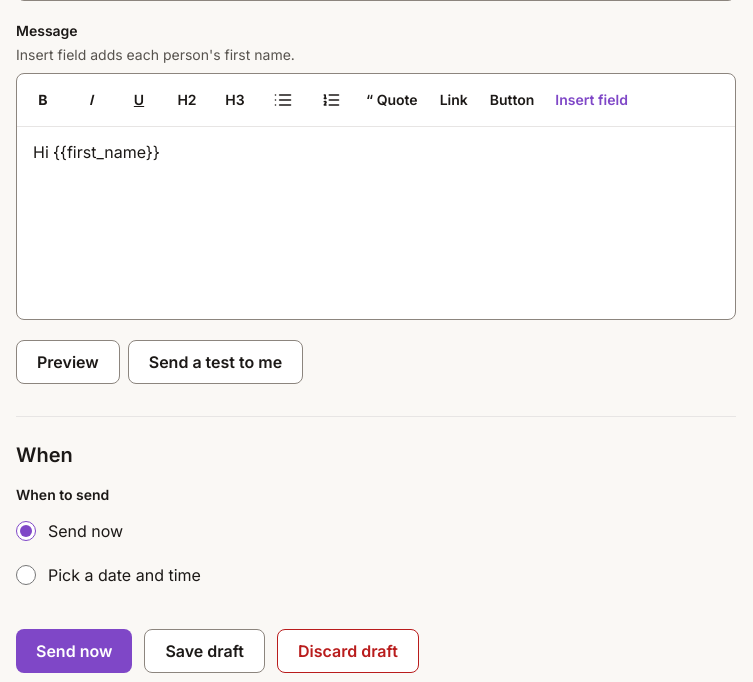
Scenario: MessageComposerPage › sends a test to the author and says where
(page scrolled)
Click the button "Send a test to me" at point(215, 362), box [128,340,303,384]
(page scrolled)
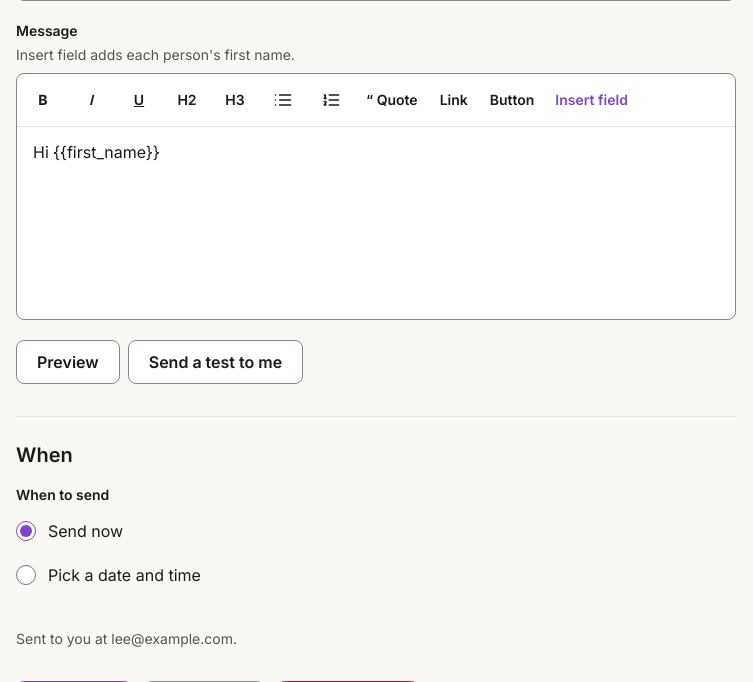
Expected: the text "Sent to you at lee@example.com." is shown, [16,630,237,647]
